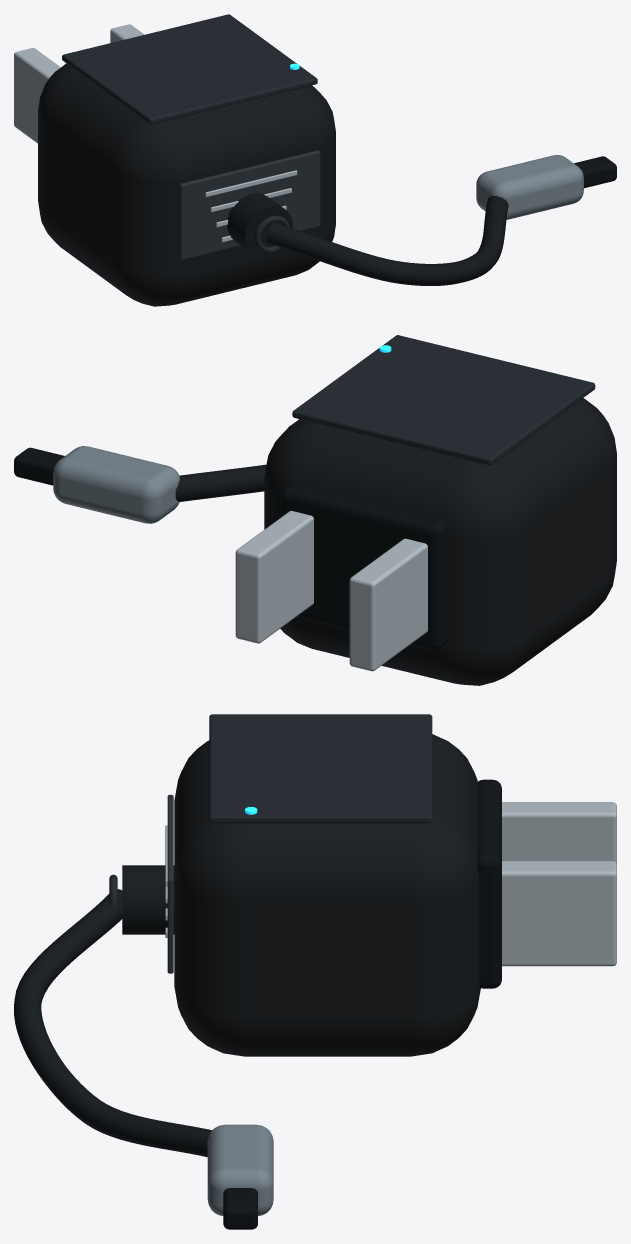
The model's file is ac-power-adapter.glb.
3 views of the same model, one above another, from view 1: azimuth 30°, elevation 25°; view 2: azimuth 150°, elevation 25°; view 3: azimuth 270°, elevation 25° (orthographic). The views are drawn at different scales.
Visible parts, largest first — view 1: Satin wall charger enclosure, Recessed charger face, Electrical rating plate, Flexible USB-C charging cable, USB-C connector shell, AC mains blade (×2), Reinforced cable strain relief, USB-C connector tongue, Rating label line, Premium compact USB-C wall power adapter; view 2: Satin wall charger enclosure, Recessed charger face, AC mains blade (×2), Insulated plug base, USB-C connector shell, Flexible USB-C charging cable, USB-C connector tongue; view 3: Satin wall charger enclosure, Recessed charger face, AC mains blade (×2), Flexible USB-C charging cable, USB-C connector shell, Insulated plug base, Reinforced cable strain relief, USB-C connector tongue, Electrical rating plate.
Boxes of the visible parts, x1,y1,x2,y2 form: Satin wall charger enclosure: [38, 63, 335, 306]; Recessed charger face: [62, 14, 317, 124]; Electrical rating plate: [179, 150, 320, 259]; Flexible USB-C charging cable: [266, 196, 508, 285]; USB-C connector shell: [476, 155, 583, 219]; AC mains blade (×2): [14, 24, 144, 143]; Reinforced cable strain relief: [227, 193, 292, 257]; USB-C connector tongue: [574, 156, 616, 188]; Rating label line: [205, 170, 297, 196]; Premium compact USB-C wall power adapter: [254, 215, 289, 253]; Satin wall charger enclosure: [264, 398, 616, 685]; Recessed charger face: [292, 335, 595, 465]; AC mains blade (×2): [235, 511, 427, 671]; Insulated plug base: [281, 484, 447, 649]; USB-C connector shell: [53, 446, 179, 523]; Flexible USB-C charging cable: [175, 464, 266, 501]; USB-C connector tongue: [14, 447, 64, 485]; Satin wall charger enclosure: [174, 734, 480, 1056]; Recessed charger face: [209, 714, 432, 823]; AC mains blade (×2): [502, 802, 616, 966]; Flexible USB-C charging cable: [14, 889, 211, 1157]; USB-C connector shell: [207, 1124, 273, 1215]; Insulated plug base: [477, 779, 501, 988]; Reinforced cable strain relief: [122, 865, 174, 934]; USB-C connector tongue: [223, 1188, 257, 1229]; Electrical rating plate: [167, 794, 173, 973].
Bounding box in the file's own units: 2.07 × 0.796 × 1.73.
